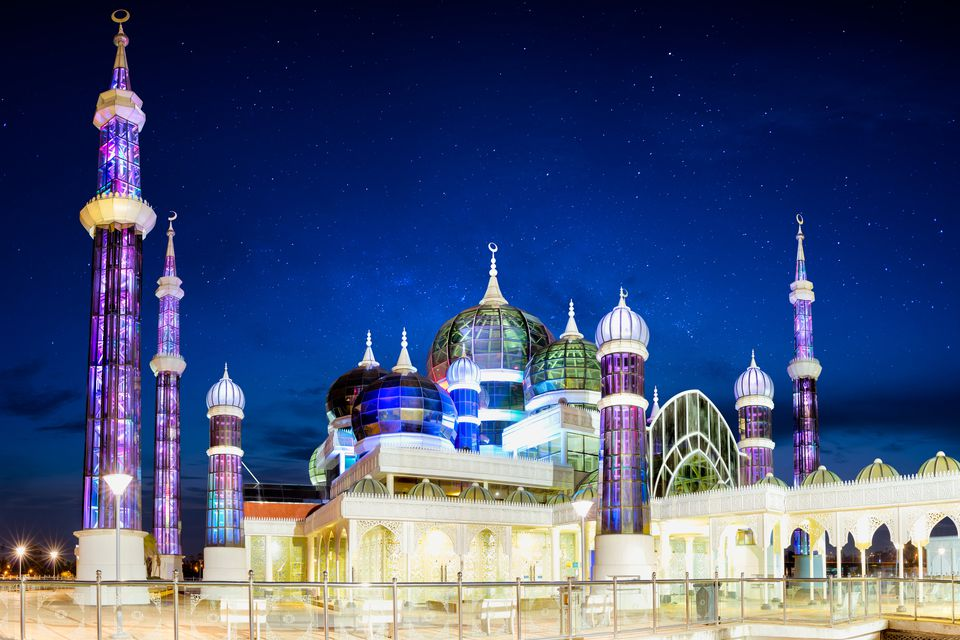Mosque: (30, 4, 849, 592)
